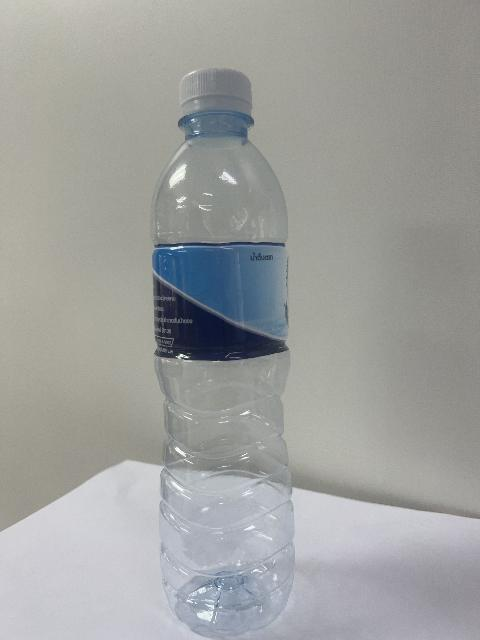bottle: (152, 69, 294, 637)
